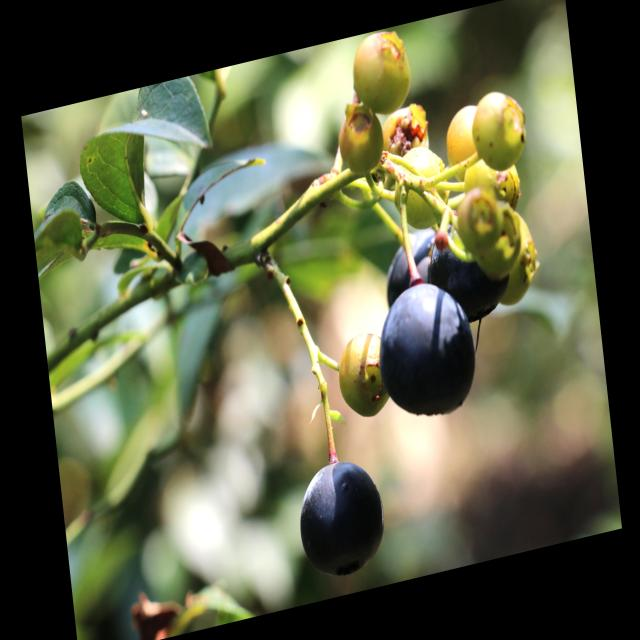blueberry: (366, 271, 481, 441), (293, 445, 392, 584), (423, 210, 517, 332), (372, 216, 451, 314)
blueberry-unripe: (334, 321, 391, 427), (350, 29, 414, 116), (394, 137, 453, 230), (469, 83, 528, 170), (336, 97, 384, 170), (444, 104, 487, 184)
